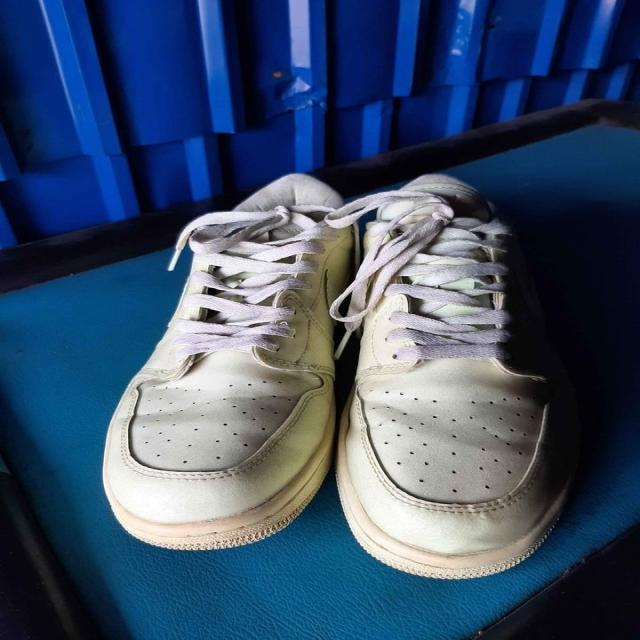nike fake jordan 1: (97, 165, 350, 552), (342, 172, 574, 580)
